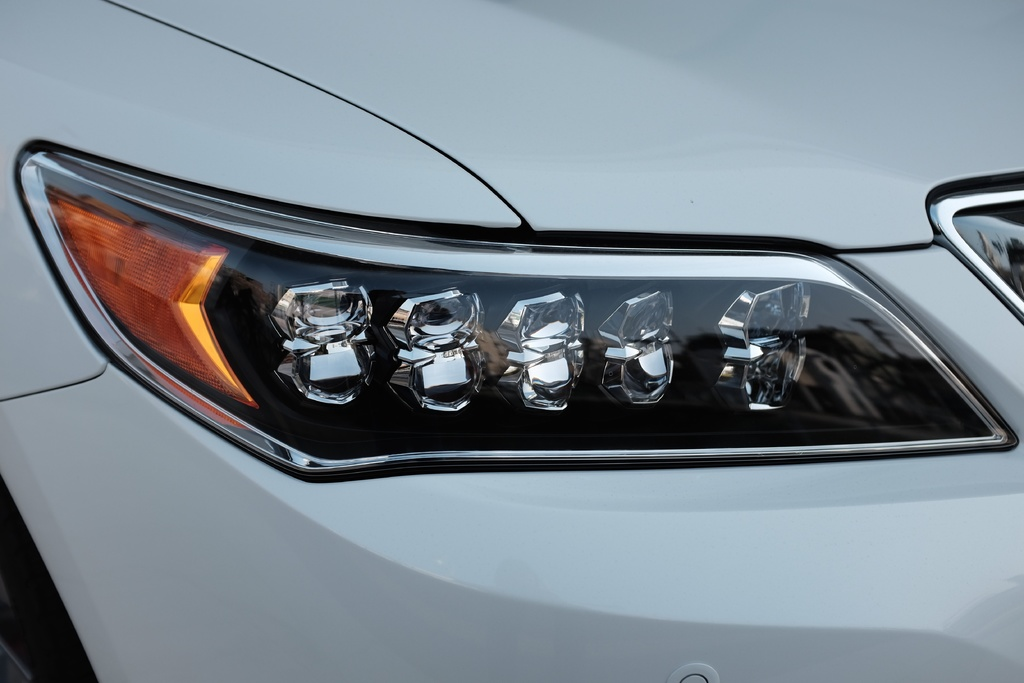Car: (0, 1, 1024, 682)
